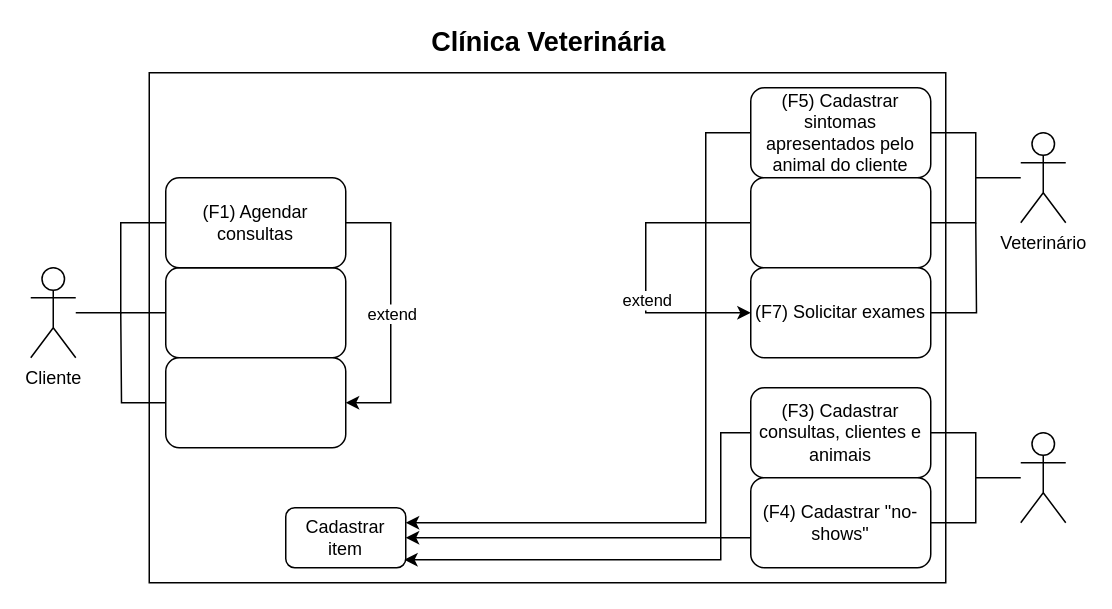
The diagram is 1112 pixels wide and 609 high, and some of its shapes have lost their labels. The shapes that lost their labels are listed below. From the top down, each one's box as (x1, y1, x2, y2) in pixels, then its label:
(749, 176, 931, 268): (F6) Realizar internações ou prescrição de medicamentos
(164, 266, 346, 358): (F1) Trazer animal em casos emergenciais
(164, 356, 346, 448): (F8) Realizar pagamentos
(1019, 431, 1066, 523): Secretária
